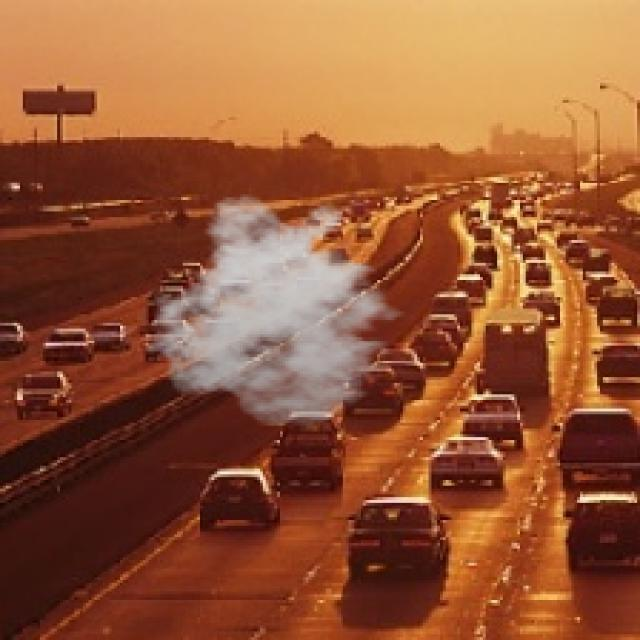Smoke: (143, 194, 420, 429)
